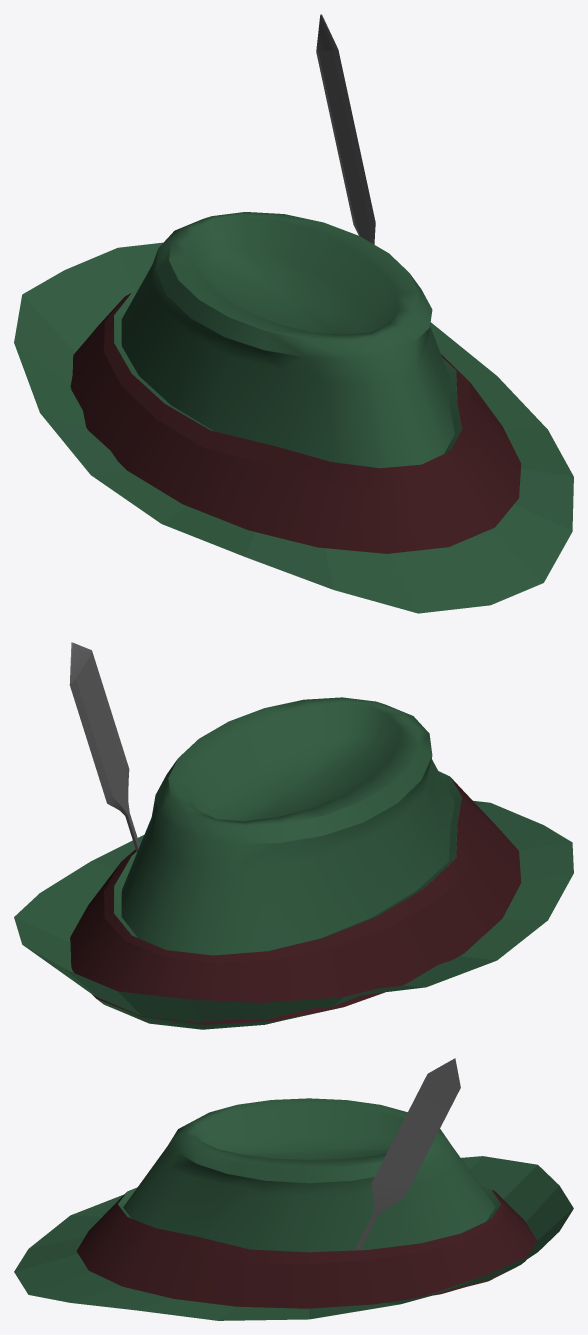
File: hat.fbx
3 views of the same model, one above another, from view 1: azimuth 30°, elevation 25°; view 2: azimuth 150°, elevation 25°; view 3: azimuth 270°, elevation 25° (orthographic). The views are drawn at different scales.
Parts seen in each view (by area): view 1: pCylinder3; view 2: pCylinder3; view 3: pCylinder3.
Part boxes in pixels (x1,y1,x2,y2): pCylinder3: (14, 14, 573, 613); pCylinder3: (14, 642, 573, 1029); pCylinder3: (14, 1058, 573, 1320).
Size of the model in its own units: 2.66 by 2.16 by 4.23.
